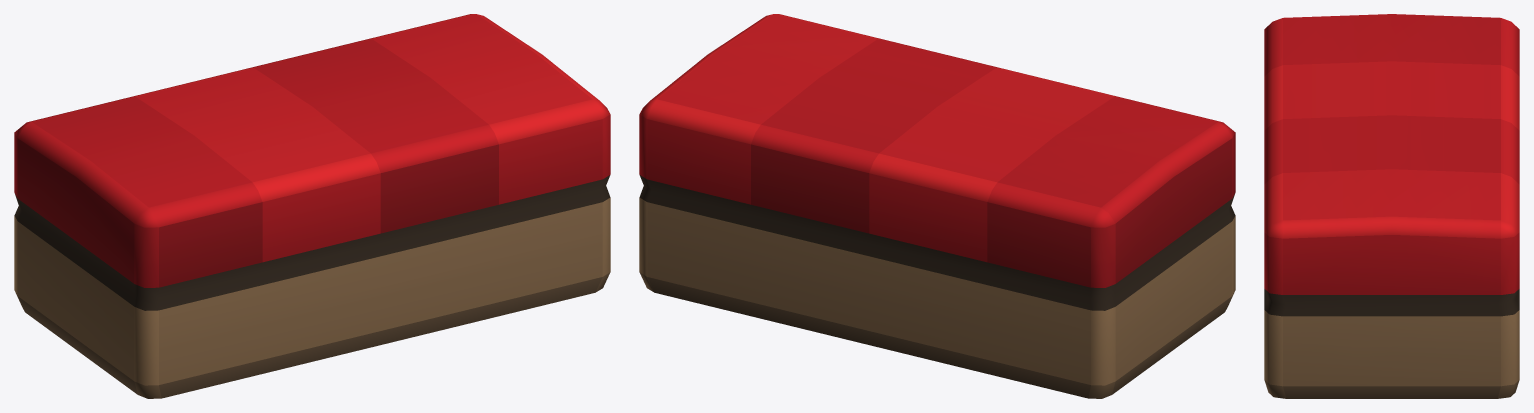
File: seating_outdoor1_1_footrest_LOD_setup.fbx
3 renders of one model, left to right at view 1: azimuth 30°, elevation 25°; view 2: azimuth 150°, elevation 25°; view 3: azimuth 270°, elevation 25°, orthographic. The views are drawn at different scales.
Parts seen in each view (by area): view 1: seating_outdoor1_1_footrest_LOD0; view 2: seating_outdoor1_1_footrest_LOD0; view 3: seating_outdoor1_1_footrest_LOD0.
Boxes of the visible parts, left/top/right/bottom form: seating_outdoor1_1_footrest_LOD0: left=14, top=14, right=610, bottom=398; seating_outdoor1_1_footrest_LOD0: left=639, top=14, right=1235, bottom=398; seating_outdoor1_1_footrest_LOD0: left=1264, top=14, right=1519, bottom=398.
Size of what is drawn, in the model's own units: 100 by 38.51 by 50.
